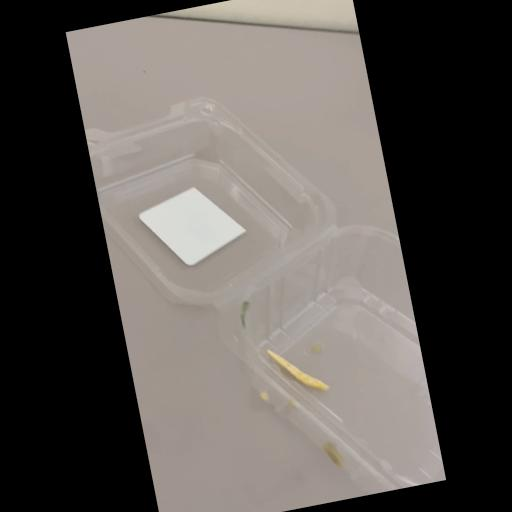small_plastic_container: (84, 71, 445, 512)
